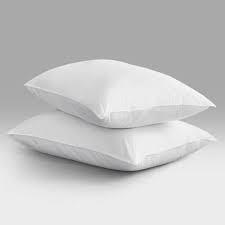pillow: (25, 58, 216, 127), (9, 107, 214, 171)
